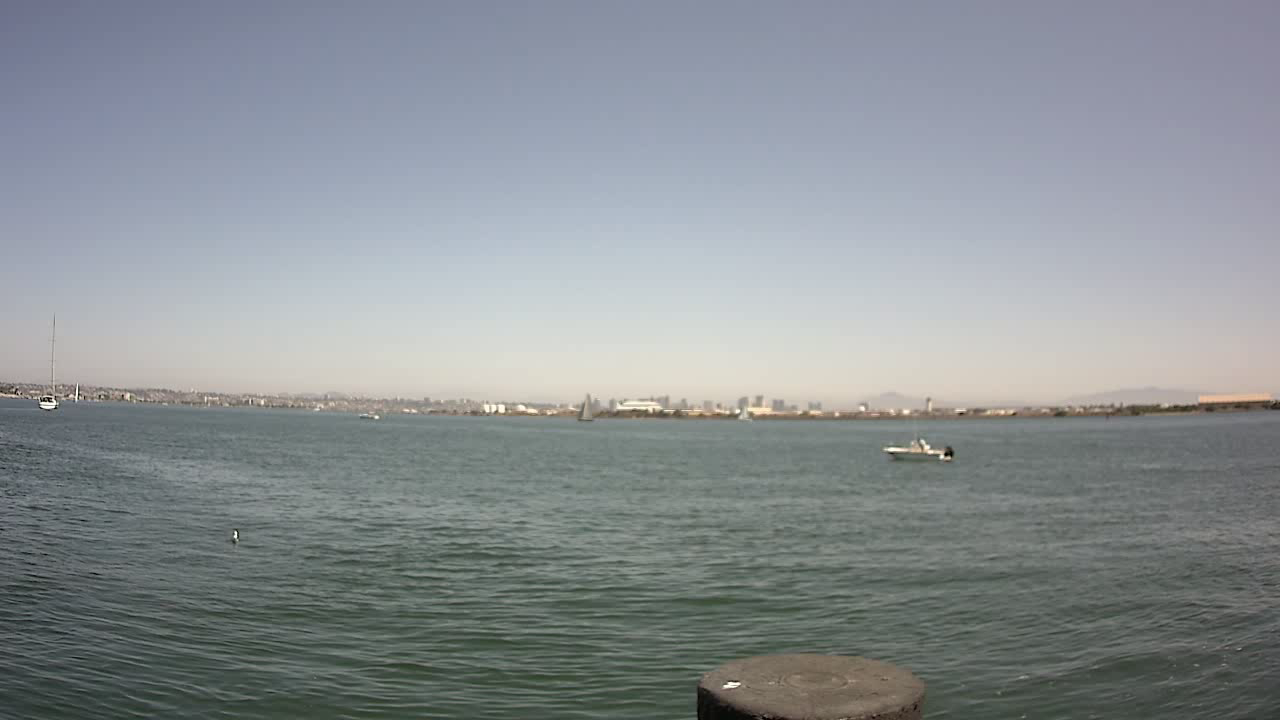target: (878, 422, 966, 470)
